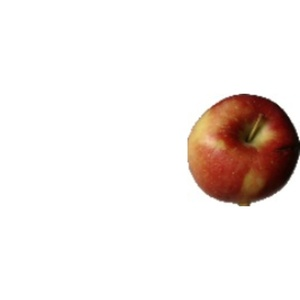maçã braeburn: (188, 88, 300, 206)
